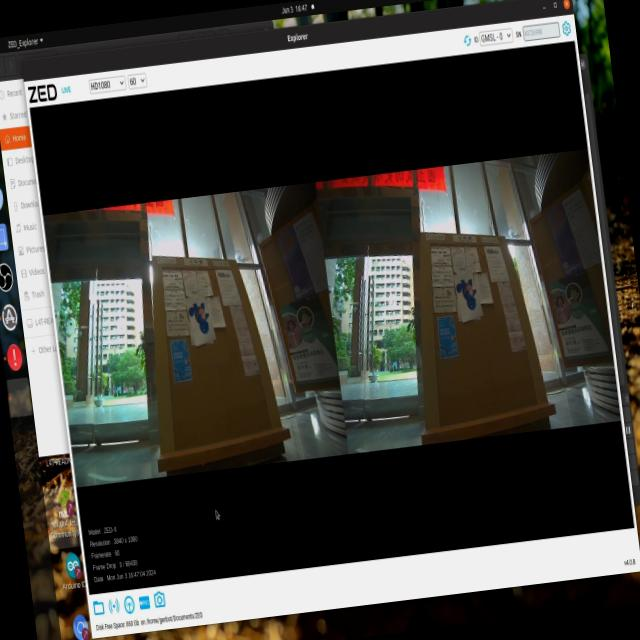blue: (182, 291, 212, 360), (445, 272, 486, 320)
